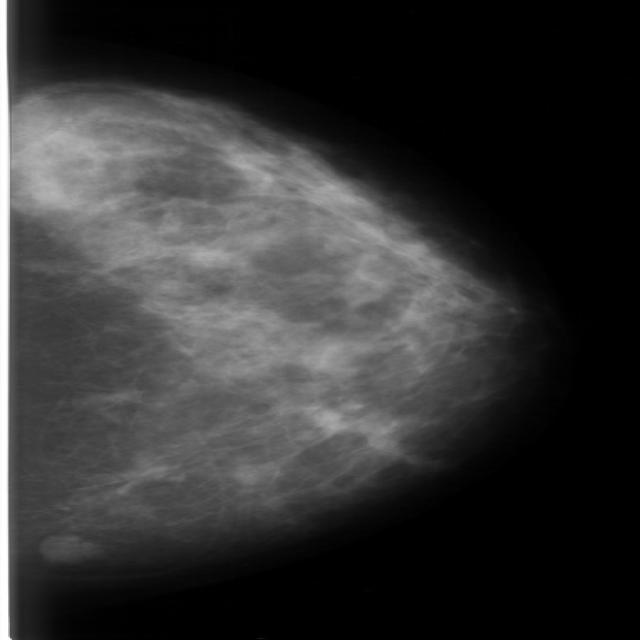tumour: (35, 532, 99, 562)
